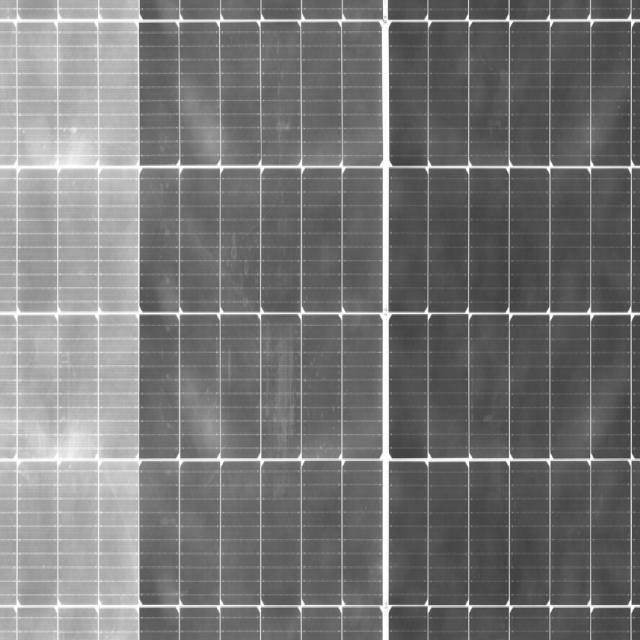CORRECT: (228, 33, 635, 622), (3, 0, 342, 637)
